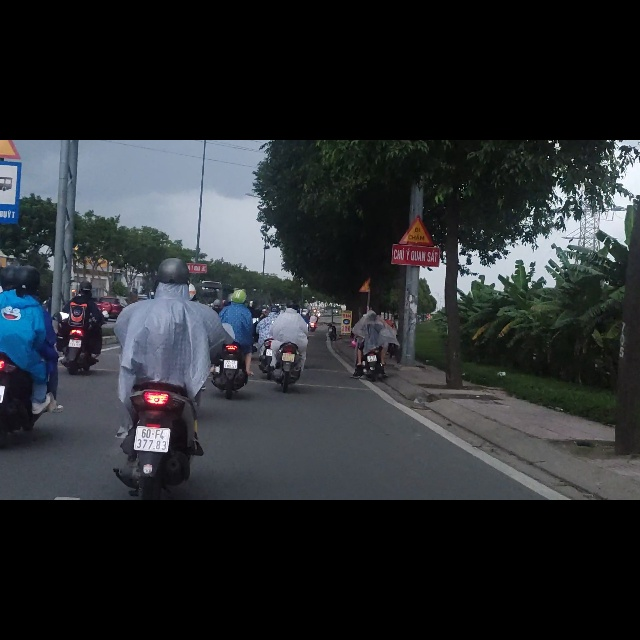bien_nguy_hiem: (398, 132, 434, 188)
